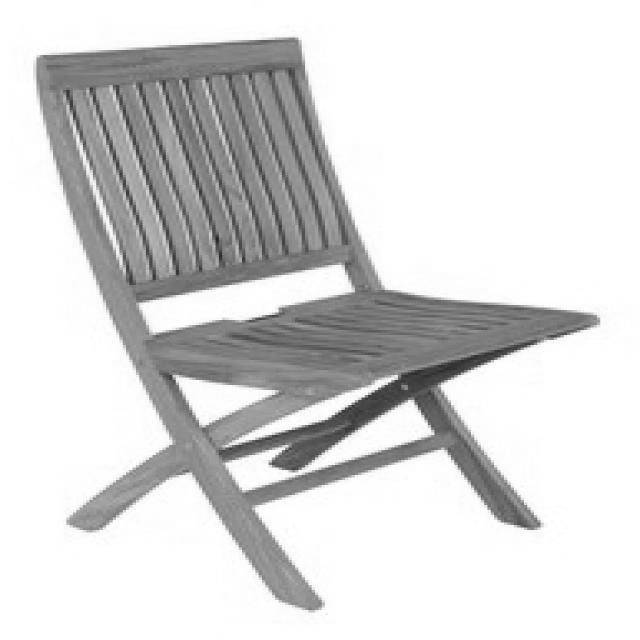chair: (32, 34, 602, 608)
